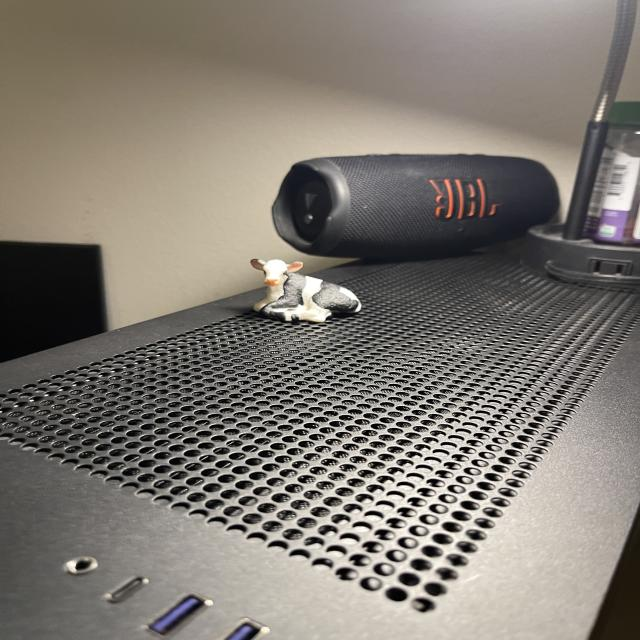cow: (248, 259, 364, 325), (302, 298, 306, 304)
